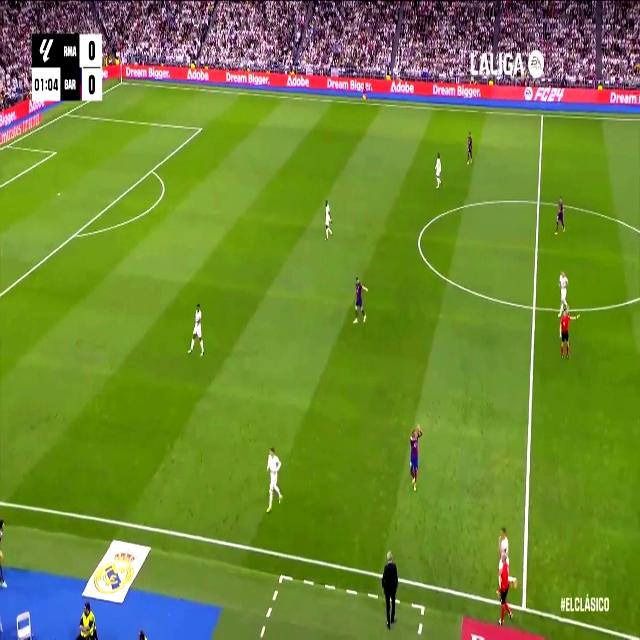bigarea_top_inner: (197, 121, 203, 135)
bigarea_top_outter: (62, 107, 70, 119)
bottom_arc_area_intersection: (71, 226, 79, 242)
corner: (118, 75, 126, 86)
halfcircle_bottom: (529, 293, 540, 319)
halfcircle_top: (535, 194, 543, 212)
midline_bottom_intersection: (519, 600, 528, 616)
midline_top_intersection: (538, 108, 546, 122)
smallarea_top_inner: (52, 148, 56, 156)
top_arc_area_intersection: (148, 162, 156, 176)
